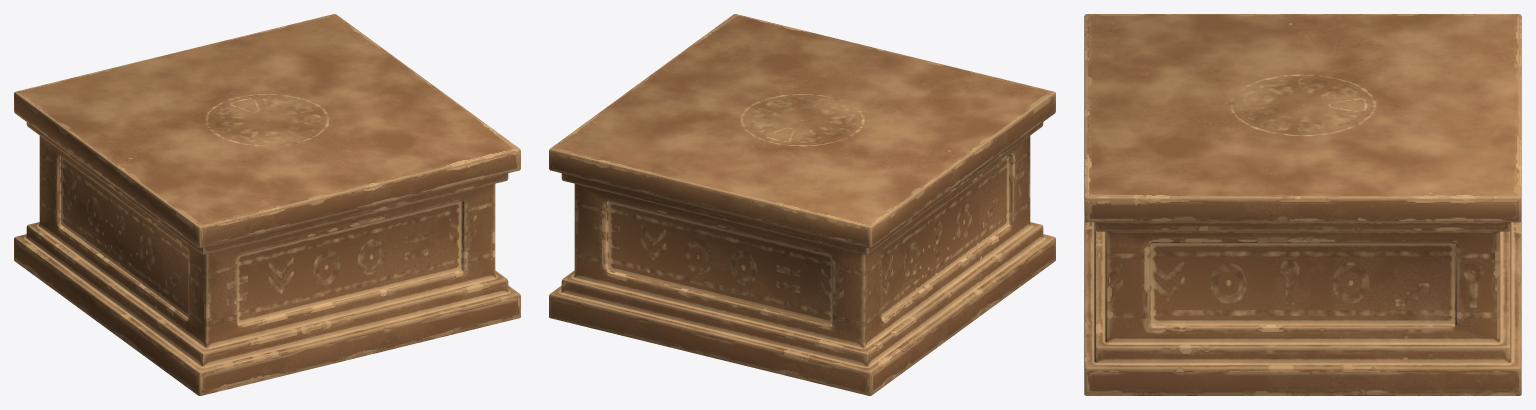
File: altar.glb
The picture shows the model from 3 angles, left to right: view 1: azimuth 30°, elevation 25°; view 2: azimuth 150°, elevation 25°; view 3: azimuth 270°, elevation 25°; orthographic projection. The views are drawn at different scales.
Visible parts, largest first — view 1: altar; view 2: altar; view 3: altar.
Part boxes in pixels (box(x1,y1,x2,y2)): altar: box(14, 14, 520, 395); altar: box(549, 14, 1055, 395); altar: box(1084, 14, 1521, 395).
Size of the model in its own units: 2 by 1 by 2.
1 material, 1 textured.
